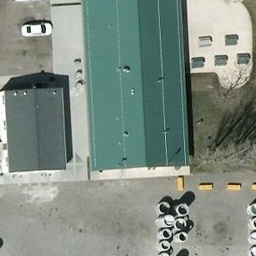car: (20, 17, 53, 38)
